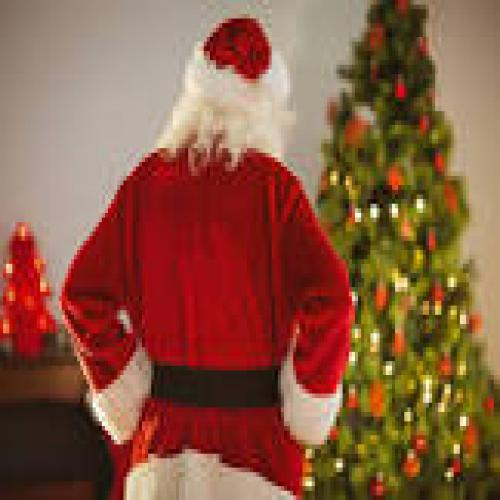Santa: (60, 16, 356, 500)
